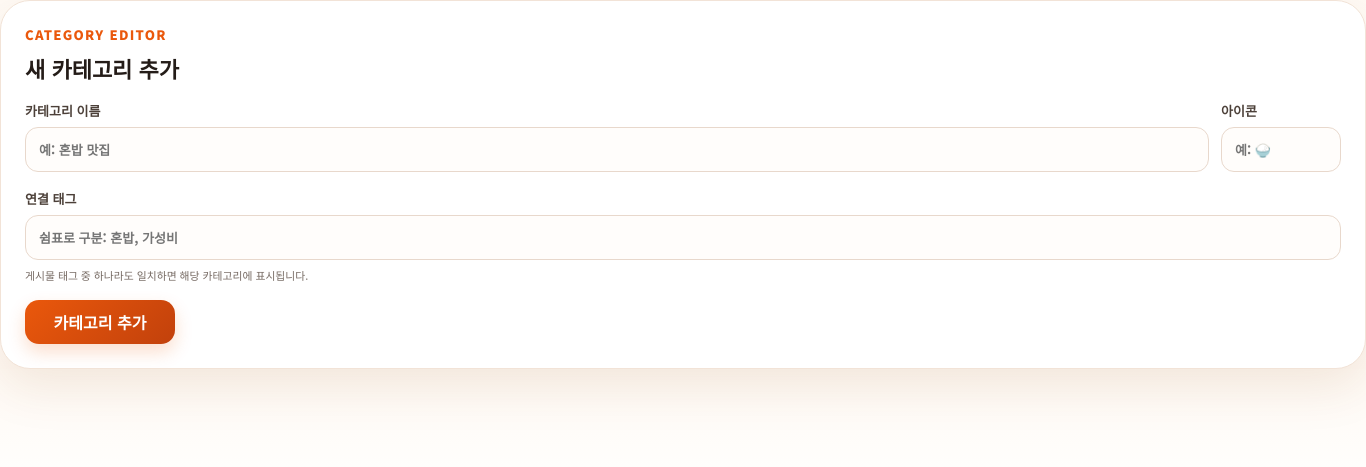
CategoryForm › 필수값이 없으면 저장하지 않는다
The width and height of the screenshot is (1366, 467).
What coordinates should you click on to do the following:
click the button "카테고리 추가"
I would click on:
 (100, 322)
Its box is [25,300,175,344].
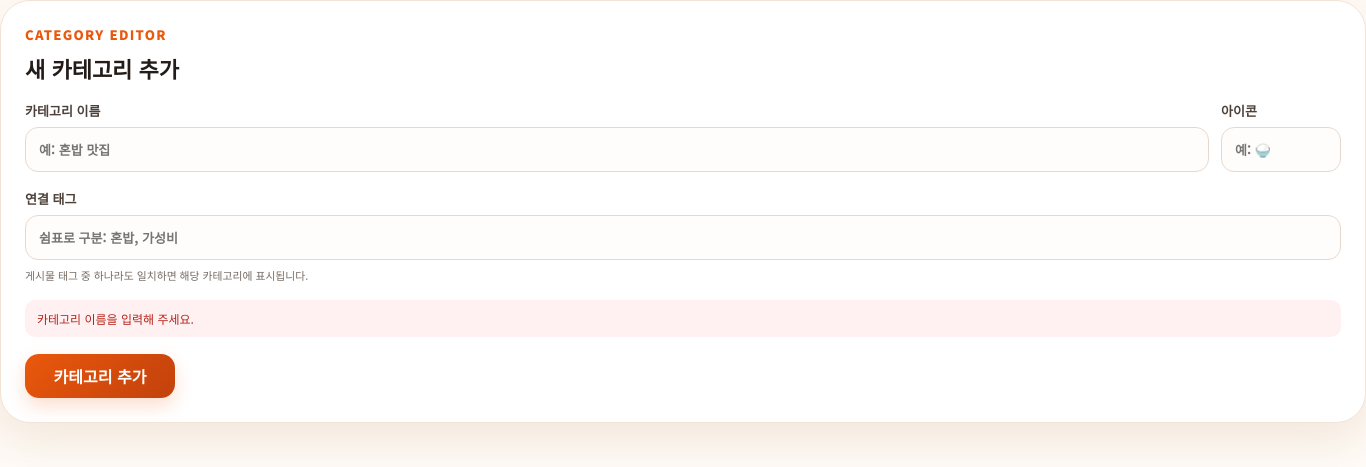
expect the message shows "이름을 입력": met, box [37,310,194,327]
